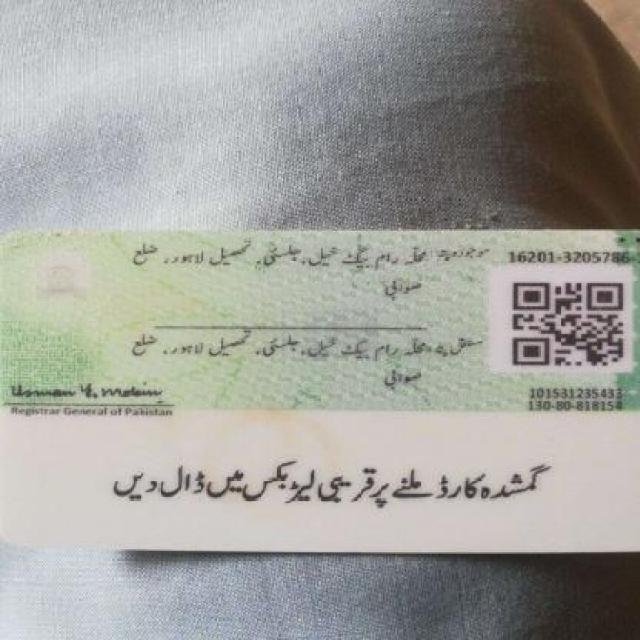Back: (6, 220, 640, 566)
